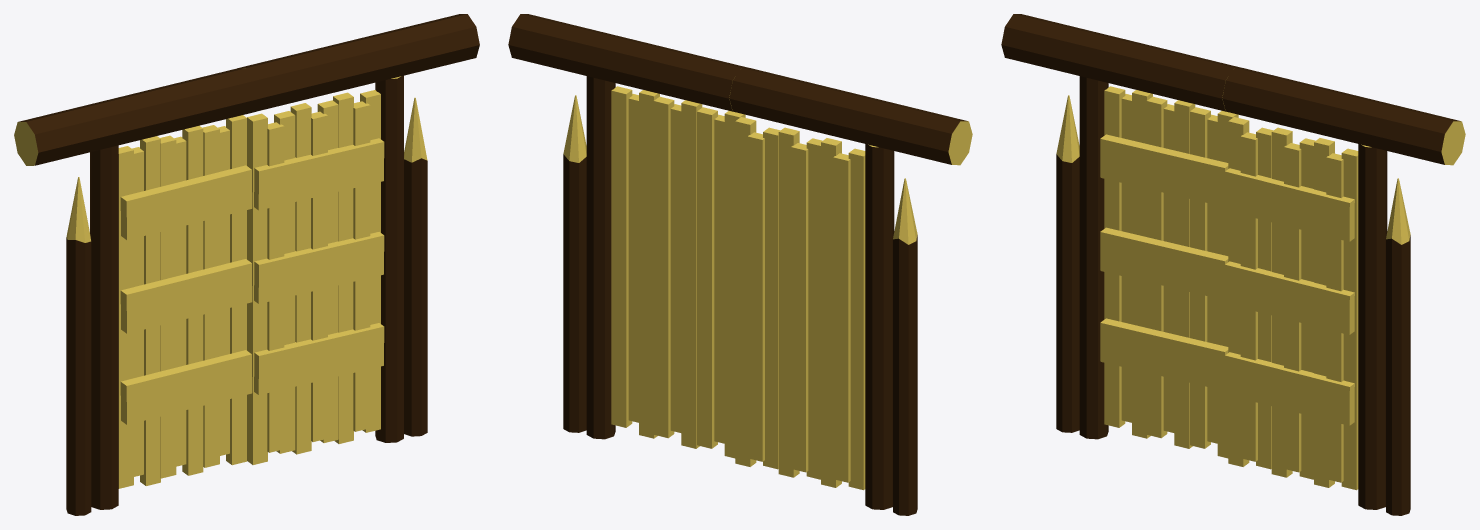
The model's file is pallisade_gate.fbx.
3 renders of one model, left to right at view 1: azimuth 30°, elevation 25°; view 2: azimuth 150°, elevation 25°; view 3: azimuth 330°, elevation 25°, orthographic.
Parts seen in each view (by area): view 1: Cylinder.002, Cylinder.005, Cylinder.001, Cylinder.004, Cylinder, Cylinder.003, Plank.011, Plank.010, Plank.009, Plank.021, Plank.022, Plank.023 (+18 smaller); view 2: Cylinder.002, Cylinder.005, Cylinder.001, Cylinder.004, Cylinder, Cylinder.003, Plank.012, Plank.015, Plank.018, Plank.004, Plank.007, Plank.001 (+12 smaller); view 3: Cylinder.005, Cylinder.002, Cylinder.004, Cylinder.001, Cylinder.003, Cylinder, Plank.011, Plank.010, Plank.009, Plank.021, Plank.023, Plank.022 (+18 smaller).
Part boxes in pixels (<box>): Cylinder.002: <box>14,68,259,165</box>; Cylinder.005: <box>238,14,479,111</box>; Cylinder.001: <box>90,145,118,509</box>; Cylinder.004: <box>375,75,403,442</box>; Cylinder: <box>66,177,91,515</box>; Cylinder.003: <box>404,97,427,436</box>; Plank.011: <box>120,165,252,240</box>; Plank.010: <box>120,259,252,333</box>; Plank.009: <box>120,350,252,424</box>; Plank.021: <box>254,323,384,394</box>; Plank.022: <box>254,232,384,303</box>; Plank.023: <box>254,138,384,210</box>; Cylinder.002: <box>729,67,972,165</box>; Cylinder.005: <box>508,14,747,111</box>; Cylinder.001: <box>865,144,894,509</box>; Cylinder.004: <box>586,76,615,439</box>; Cylinder: <box>893,178,917,515</box>; Cylinder.003: <box>563,95,586,432</box>; Plank.012: <box>611,86,632,427</box>; Plank.015: <box>653,96,674,438</box>; Plank.018: <box>697,107,717,448</box>; Plank.004: <box>791,143,808,472</box>; Plank.007: <box>747,132,764,461</box>; Plank.001: <box>833,153,850,482</box>; Cylinder.005: <box>1222,67,1465,165</box>; Cylinder.002: <box>1001,14,1240,111</box>; Cylinder.004: <box>1358,144,1387,509</box>; Cylinder.001: <box>1079,76,1108,439</box>; Cylinder.003: <box>1386,178,1410,515</box>; Cylinder: <box>1056,95,1079,432</box>; Plank.011: <box>1100,134,1228,206</box>; Plank.010: <box>1100,227,1228,299</box>; Plank.009: <box>1100,318,1228,390</box>; Plank.021: <box>1224,352,1354,425</box>; Plank.023: <box>1224,168,1354,241</box>; Plank.022: <box>1224,261,1354,334</box>.
Size of the model in its own units: 446 by 389 by 42.75.
